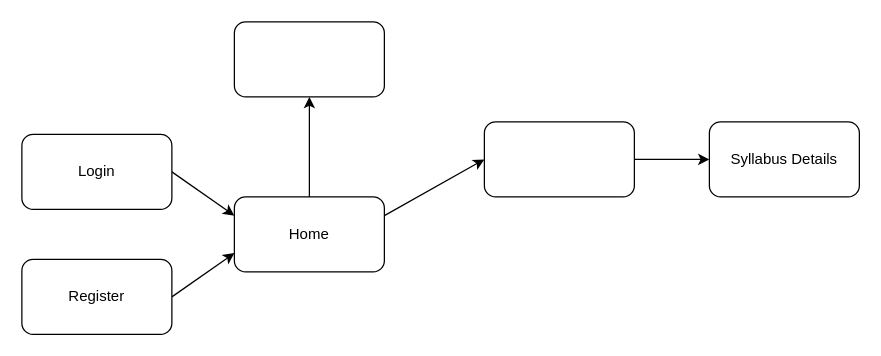
The diagram is 881 pixels wide and 356 high, and some of its shapes have lost their labels. The centre of each missing label's shape, as x and y in pixels:
Profile Page: the point at 308,59
View Syllabus List / Search: the point at 558,159
